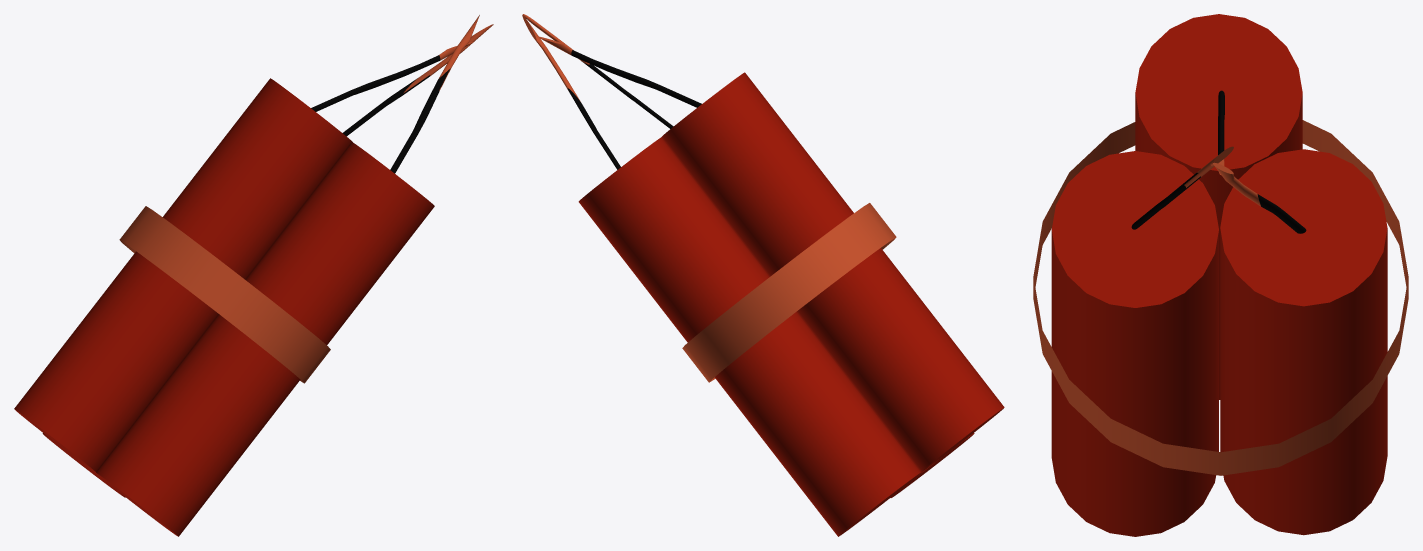
File: Dynamite.fbx
3 renders of one model, left to right at view 1: azimuth 30°, elevation 25°; view 2: azimuth 150°, elevation 25°; view 3: azimuth 270°, elevation 25°, orthographic. The views are drawn at different scales.
Parts seen in each view (by area): view 1: Dynamite; view 2: Dynamite; view 3: Dynamite.
Boxes of the visible parts, <box> form: Dynamite: <box>14,15,493,536</box>; Dynamite: <box>522,14,1004,536</box>; Dynamite: <box>1033,14,1408,536</box>.
Bounding box in the file's own units: 45.07 × 37.75 × 19.54.
